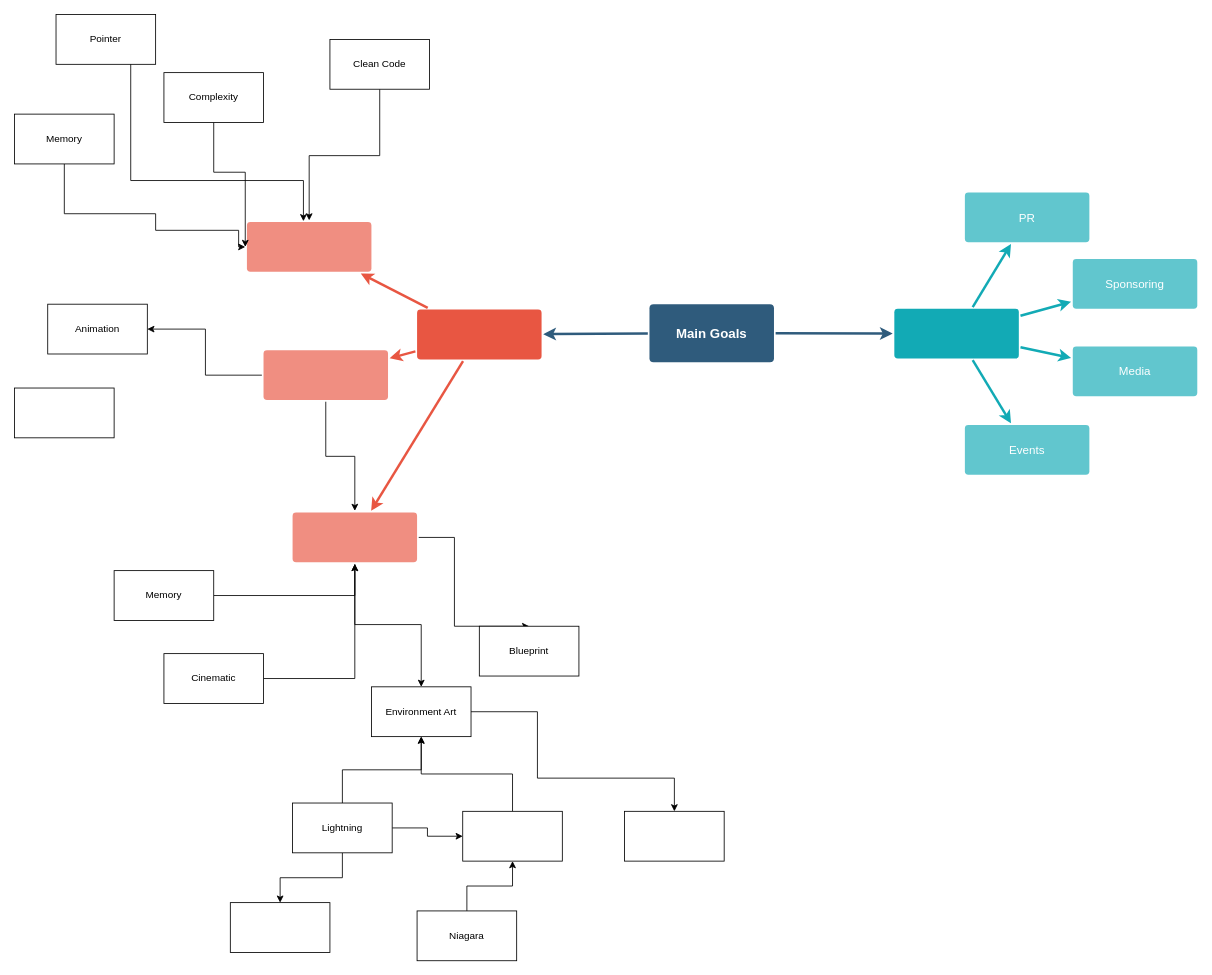
The diagram is 1212 pixels wide and 975 high, and some of its shapes have lost their labels. Each missing label, with the box of its shape:
Blender 3D: (263, 350, 388, 400)
C++: (247, 222, 371, 271)
Game Development: (417, 309, 541, 359)
Lumen: (229, 902, 330, 952)
Material: (624, 810, 724, 861)
Unreal Engine: (292, 512, 417, 562)
Visual Effect: (462, 810, 562, 861)
Web Development: (894, 308, 1018, 358)
